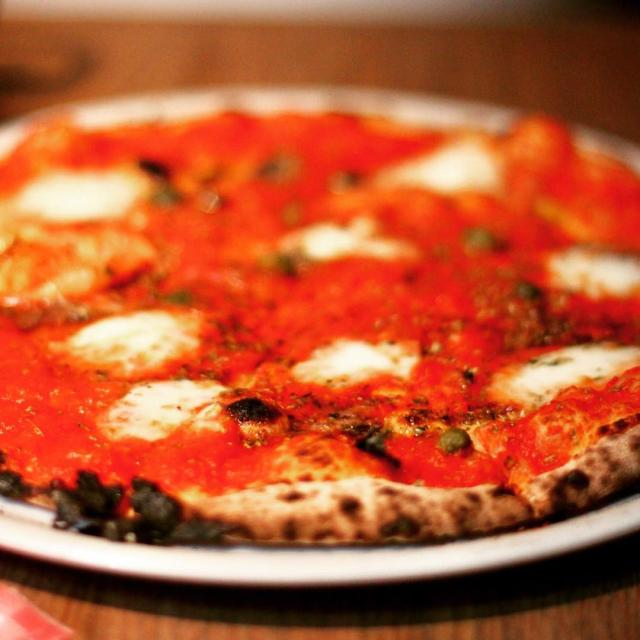pizza: (0, 111, 640, 548)
